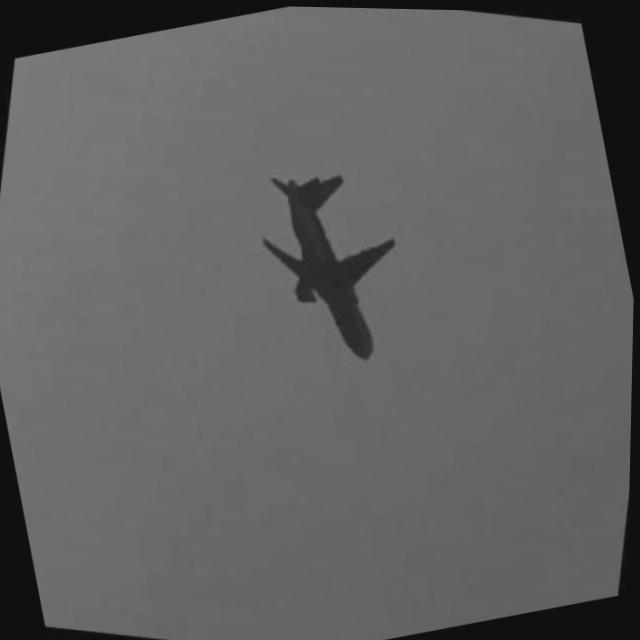aeroplane: (211, 135, 440, 390)
